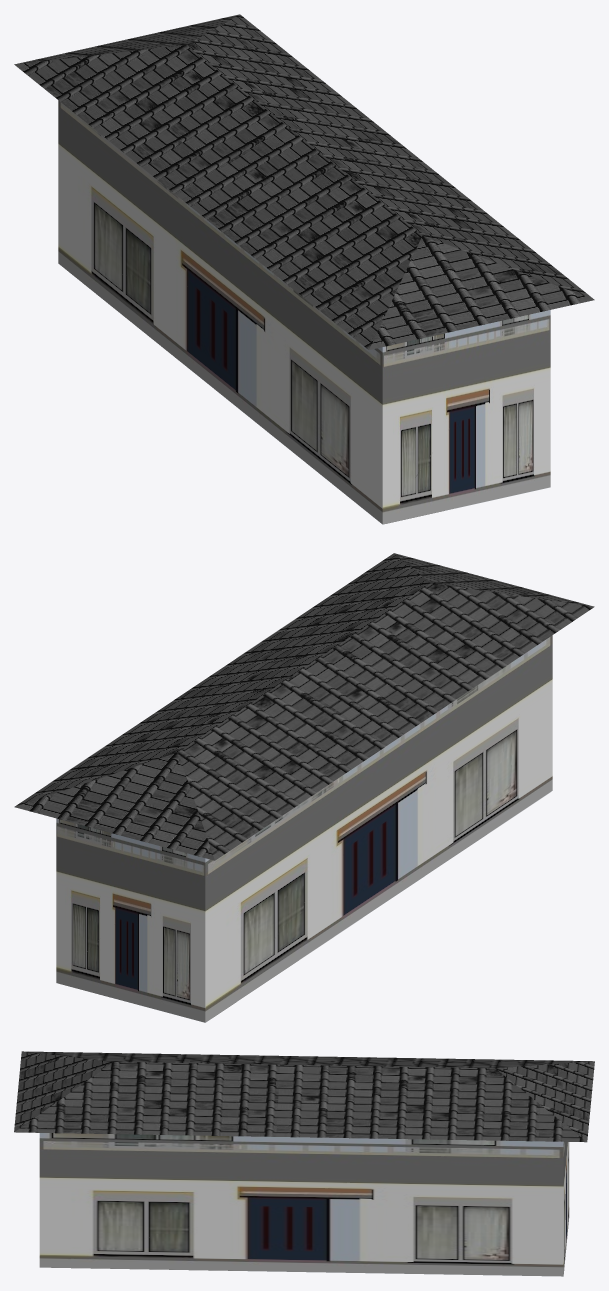
3 views of the same model, one above another, from view 1: azimuth 30°, elevation 25°; view 2: azimuth 150°, elevation 25°; view 3: azimuth 270°, elevation 25° (orthographic). The views are drawn at different scales.
Parts seen in each view (by area): view 1: CityEngineMaterial_7_m, CityEngineMaterial_8_m; view 2: CityEngineMaterial_7_m, CityEngineMaterial_8_m; view 3: CityEngineMaterial_7_m, CityEngineMaterial_8_m.
Part boxes in pixels (<box>): CityEngineMaterial_7_m: <box>58,100,550,524</box>; CityEngineMaterial_8_m: <box>14,14,594,349</box>; CityEngineMaterial_7_m: <box>56,635,552,1022</box>; CityEngineMaterial_8_m: <box>14,553,594,860</box>; CityEngineMaterial_7_m: <box>39,1133,569,1276</box>; CityEngineMaterial_8_m: <box>14,1051,594,1142</box>.
Bounding box in the file's own units: 8.18 × 7.43 × 22.14.
